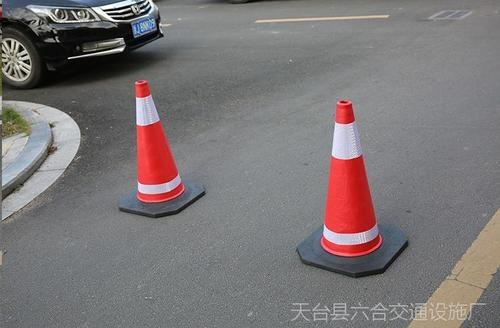cone_barrel: (304, 101, 390, 261), (119, 82, 192, 207)
